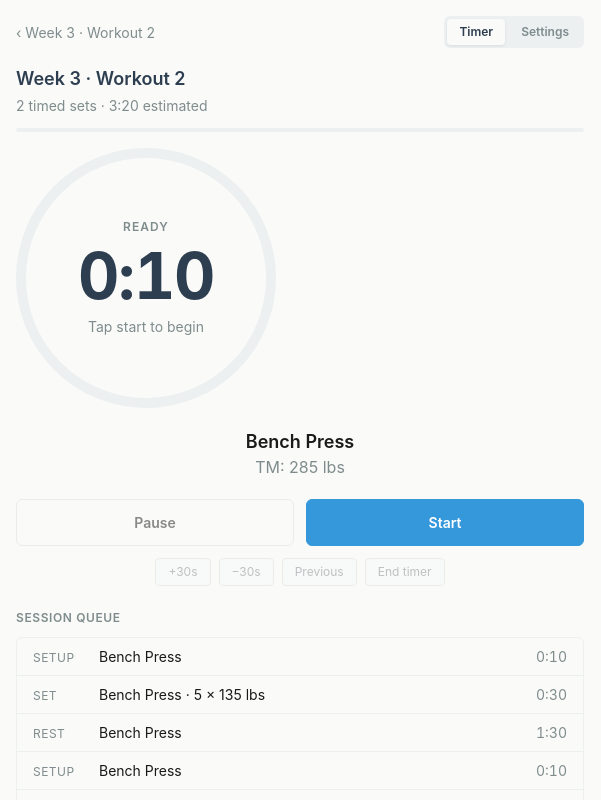
Test case: WorkoutTimerView › the Settings tab › gives same-labelled durations distinct accessible names
The width and height of the screenshot is (601, 800).
Click the tab "Settings". click: (545, 32)
box: [509,19,581,45]
(page scrolled)
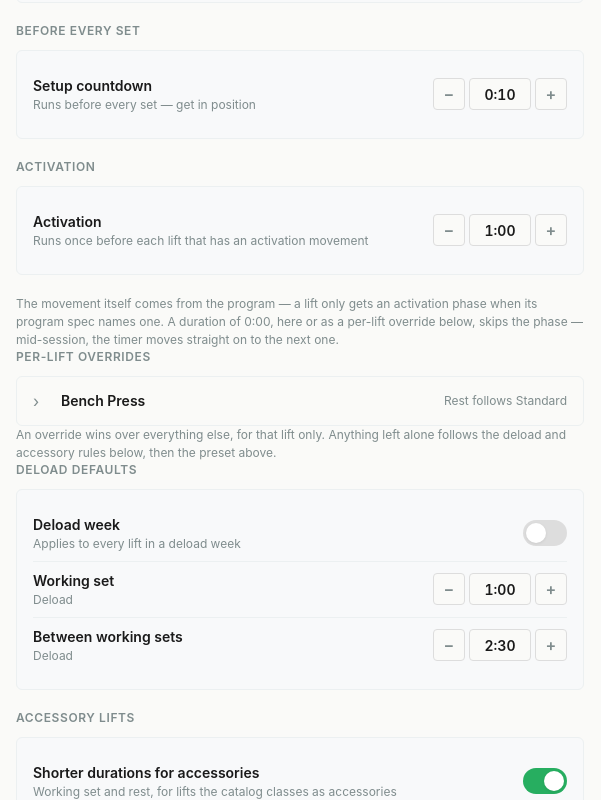
Result: the field named "Working set (Deload)" is shown at [469,573,531,605]
Click the button "› Bench Press Rest follows Standard". click: (103, 400)
box: [17,376,583,424]
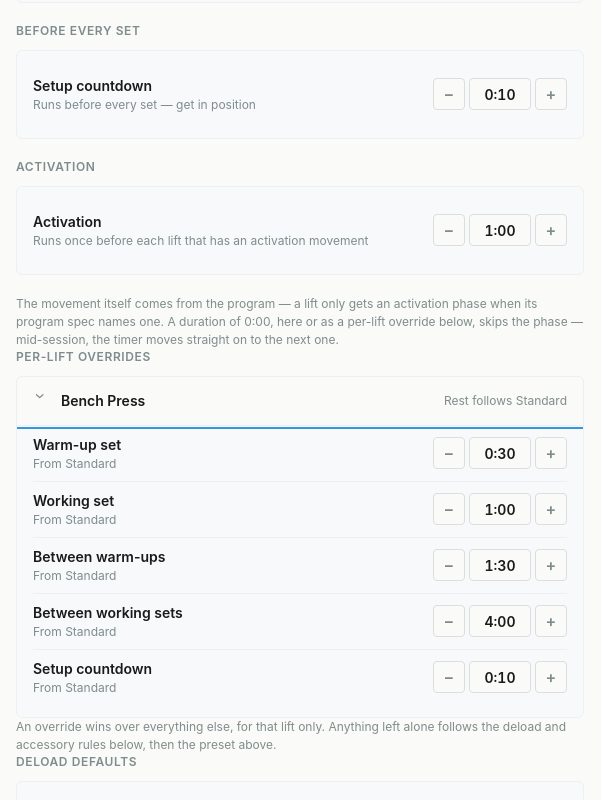
Result: the field named "Working set (Bench Press)" is shown at [469,493,531,525]
